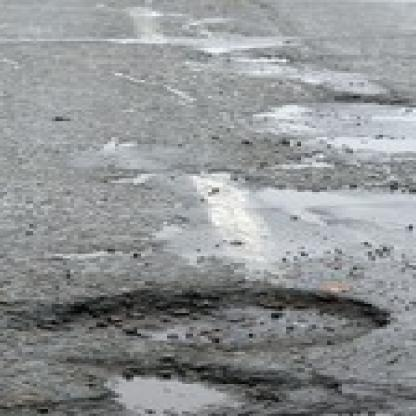pothole: (41, 288, 402, 352), (96, 364, 253, 416)
